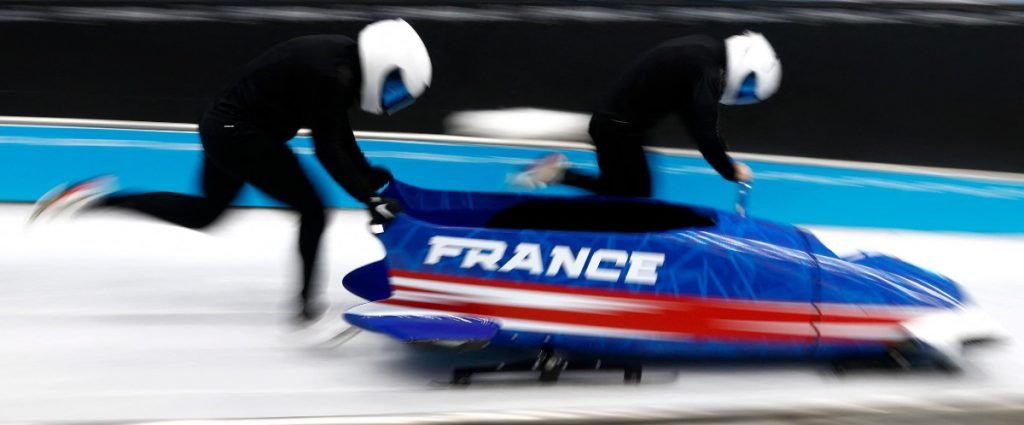Bobsleigh: (351, 190, 960, 366)
